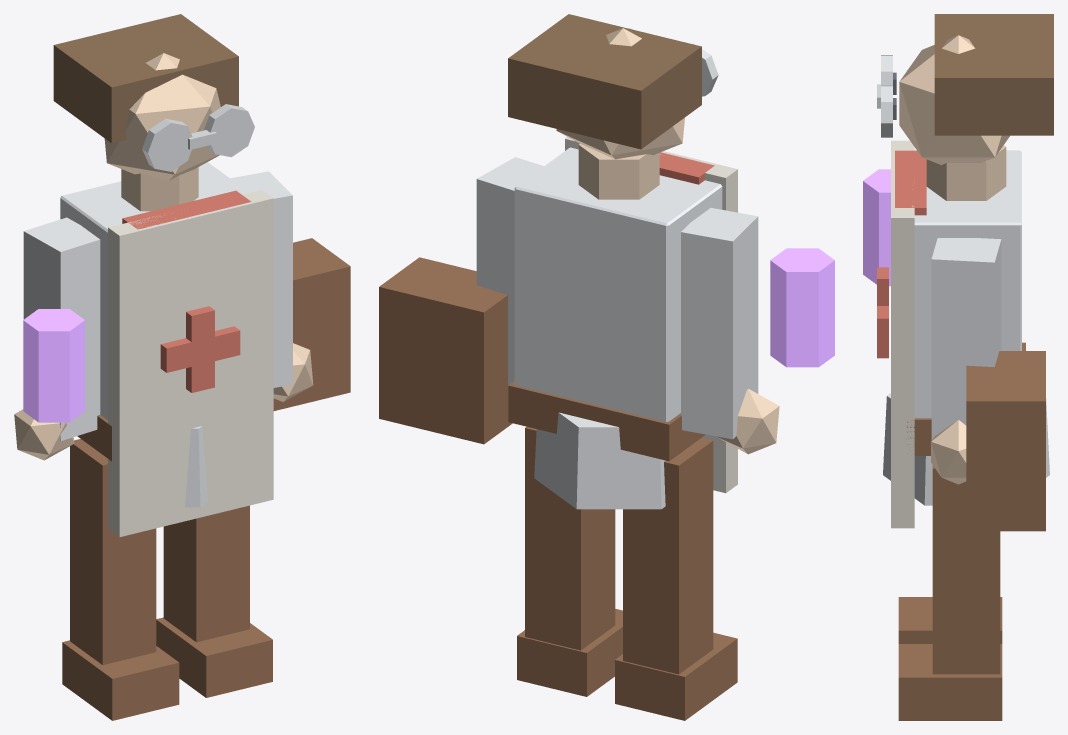
The model's file is npc_physician.glb.
3 renders of one model, left to right at view 1: azimuth 30°, elevation 25°; view 2: azimuth 150°, elevation 25°; view 3: azimuth 270°, elevation 25°, orthographic. The views are drawn at different scales.
Parts seen in each view (by area): view 1: torso.006; view 2: torso.006; view 3: torso.006.
Boxes of the visible parts, x1,y1,x2,y2 form: torso.006: (14,14,350,720); torso.006: (379,14,834,720); torso.006: (863,14,1053,720).
Size of the model in its own units: 1.06 by 1.79 by 0.48.
